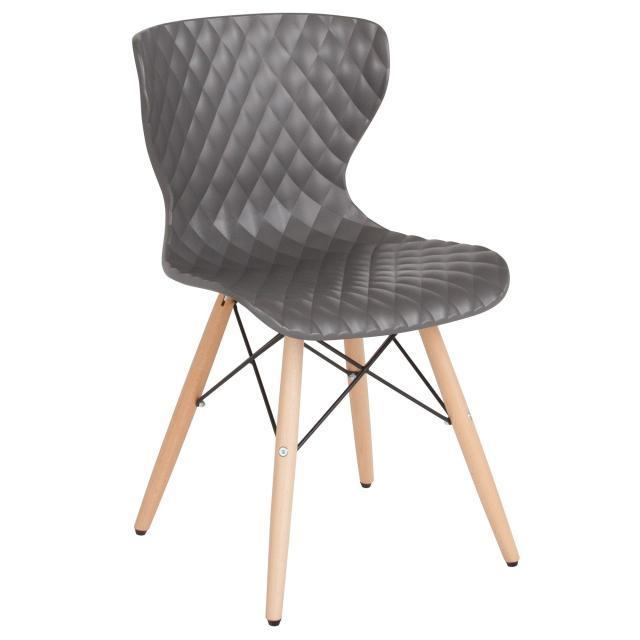chair: (126, 6, 526, 630)
